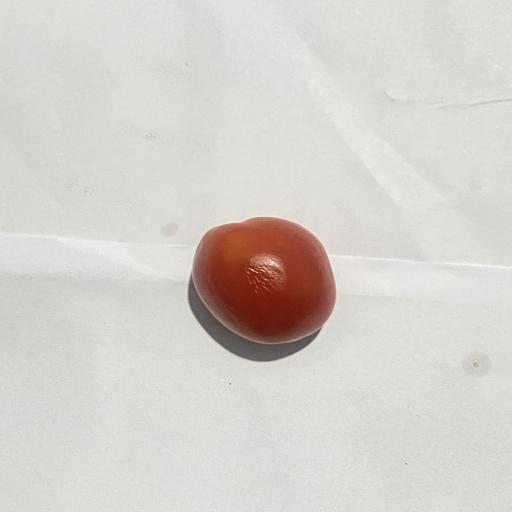overipe: (192, 217, 336, 344)
